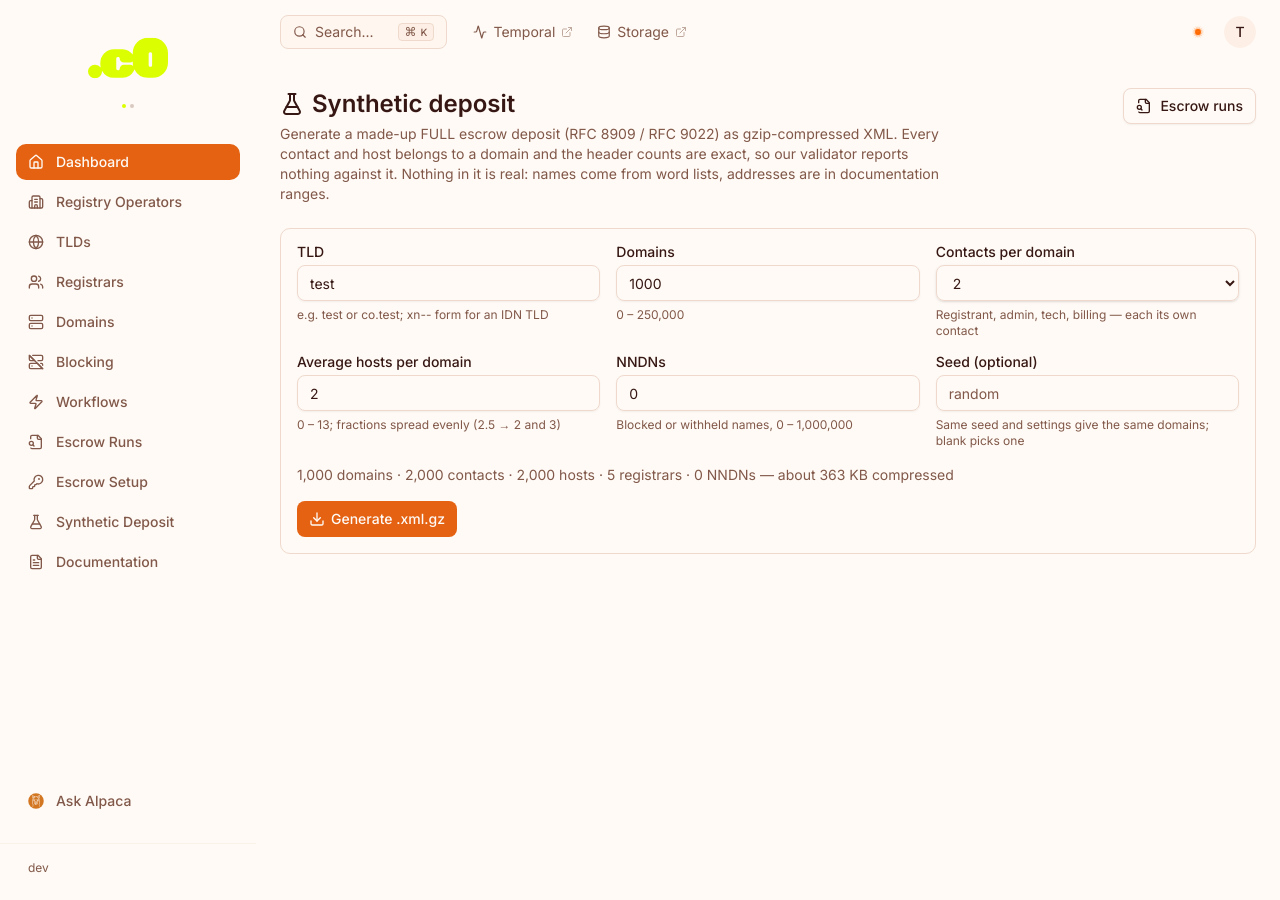
it: SyntheticDepositPage › blocks a request over the domain ceiling
Replace the text in the number field labelled "Domains" with "250001" at (768, 283), box 616,265 -> 920,301
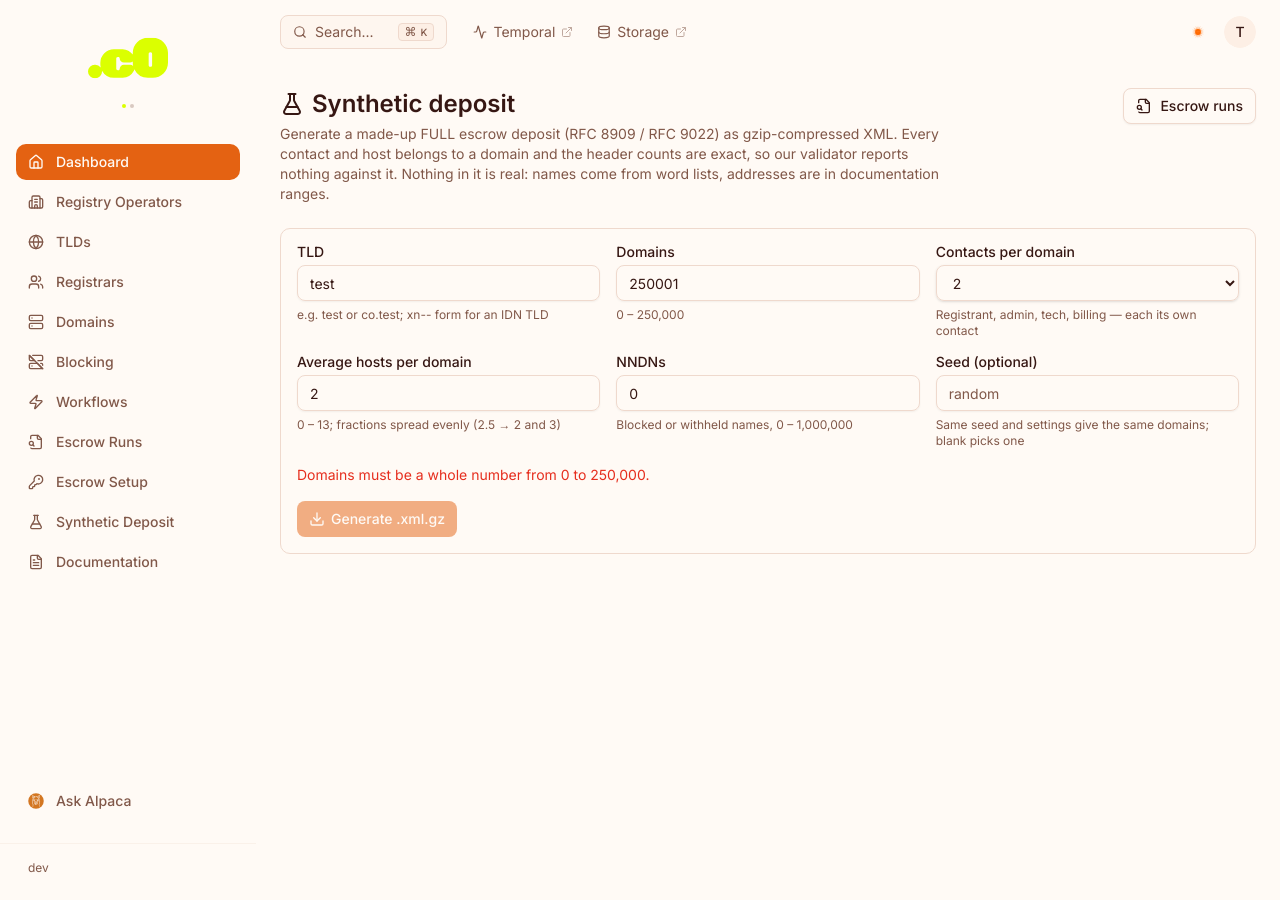
Expected: the message shows "250,000", 297,466 -> 650,483
Expected: the button "Generate .xml.gz" is disabled, 297,501 -> 457,537
